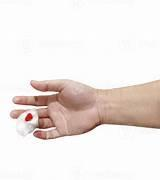Bandage: (16, 109, 38, 135)
